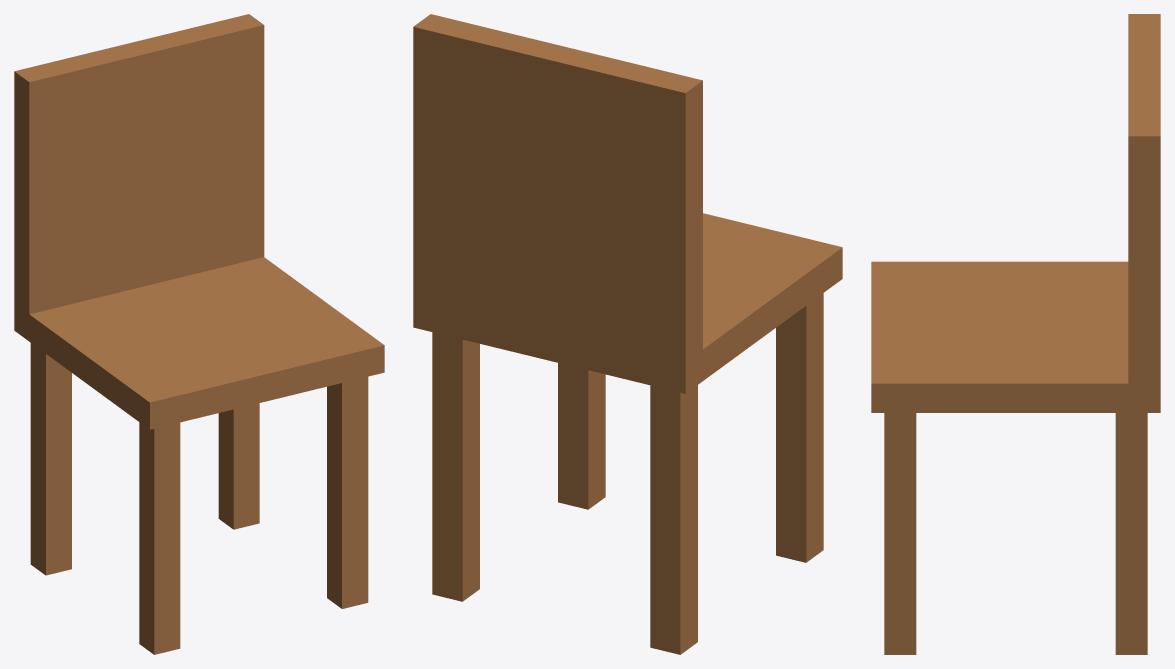
Rendered from test-oversized-chair.glb.
3 renders of one model, left to right at view 1: azimuth 30°, elevation 25°; view 2: azimuth 150°, elevation 25°; view 3: azimuth 270°, elevation 25°, orthographic. The views are drawn at different scales.
Size of the model in its own units: 22.5 by 45 by 22.5.
